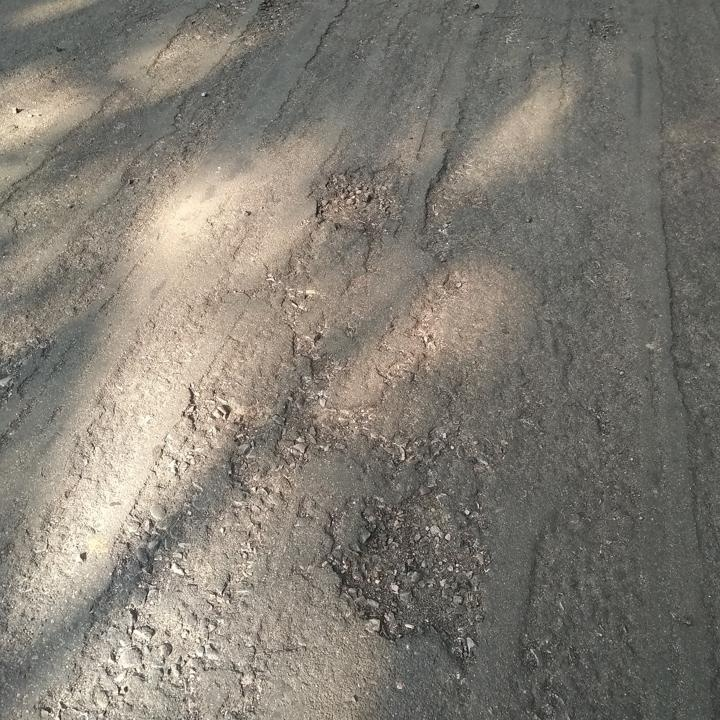pothole: (328, 494, 499, 664), (310, 158, 404, 235), (241, 0, 308, 40), (585, 14, 629, 42)
